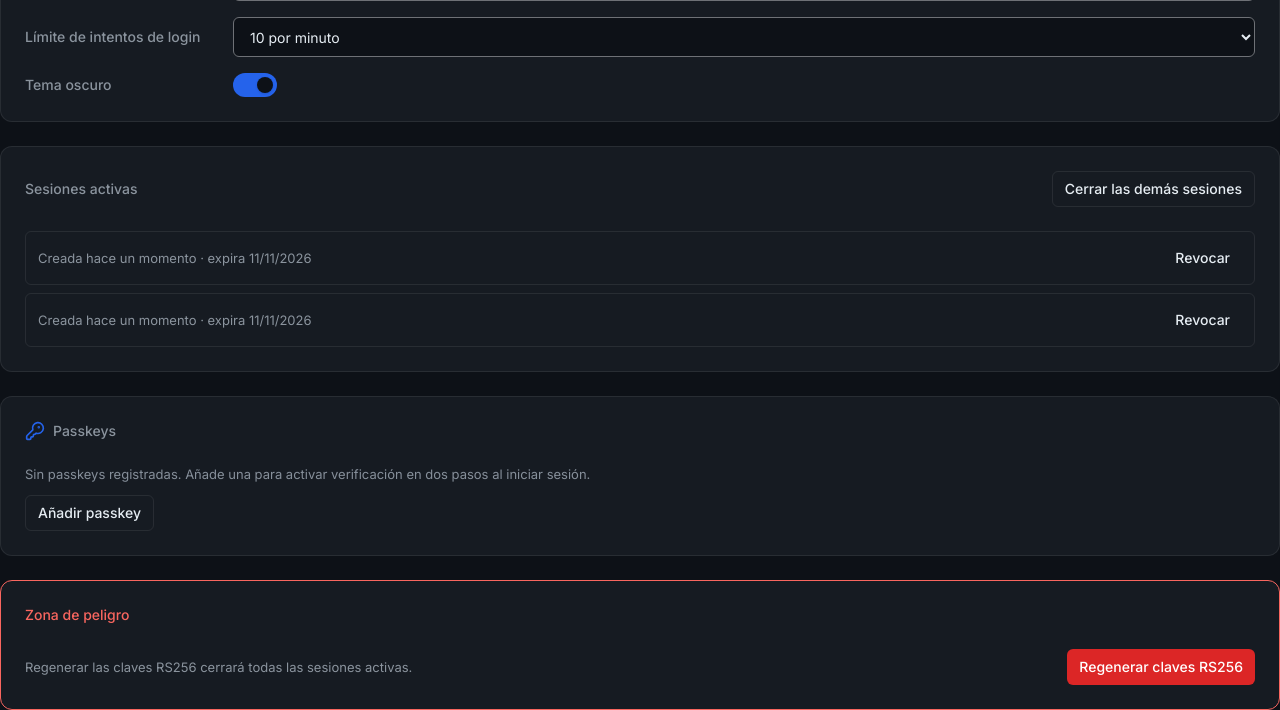
SecuritySection › si regenerar las claves falla, el diálogo sigue abierto con el error y no se cierra la sesión
(page scrolled)
Step 1. Click the button "Regenerar claves RS256" → [1161, 667], box [1067,649,1255,685]
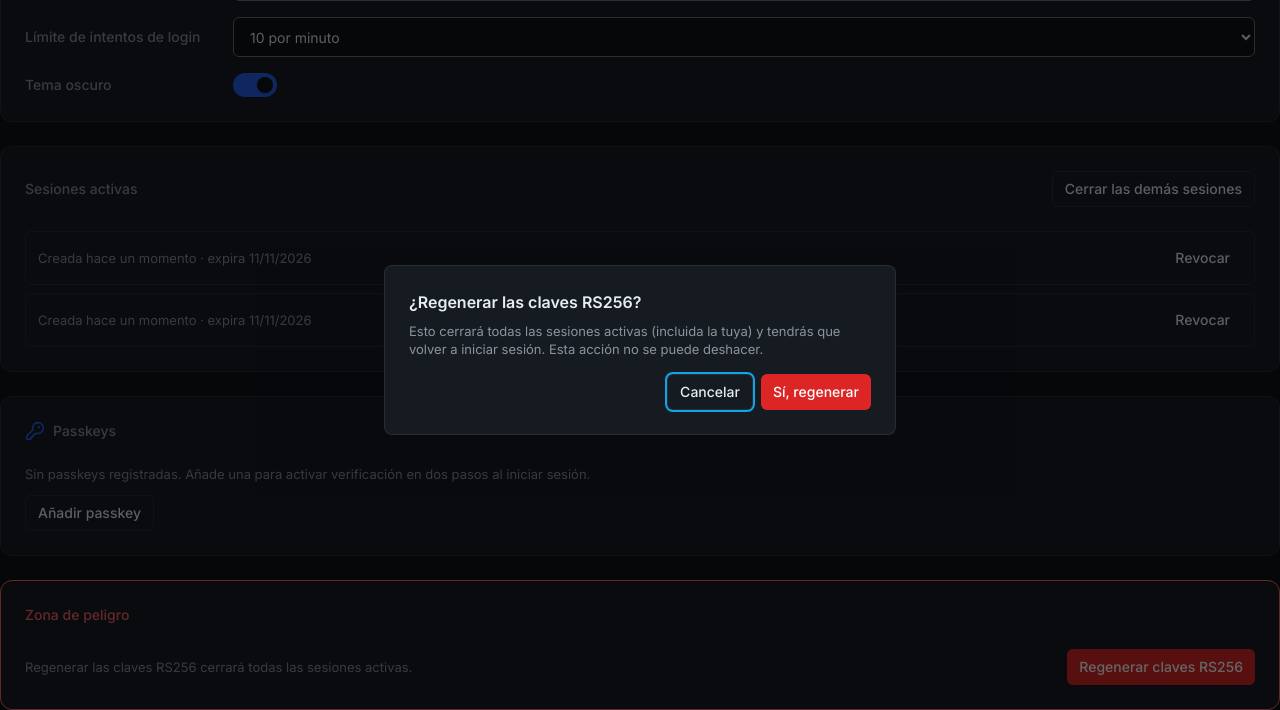
Step 2. Click the button "Sí, regenerar" → [816, 392], box [761,374,871,410]
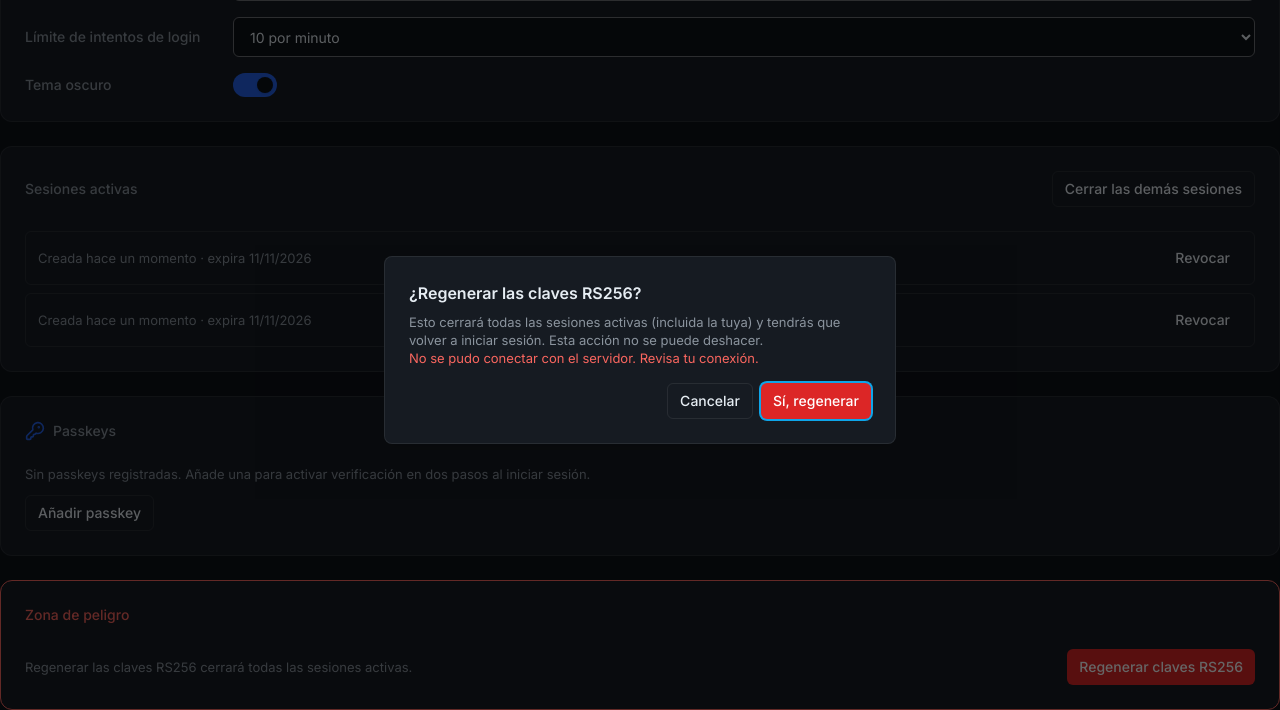
Now the heading "¿Regenerar las claves RS256?" is shown, box [409,283,641,303]
Now the message "No se pudo conectar con el servidor. Revisa tu conexión." is shown, box [409,350,759,366]
